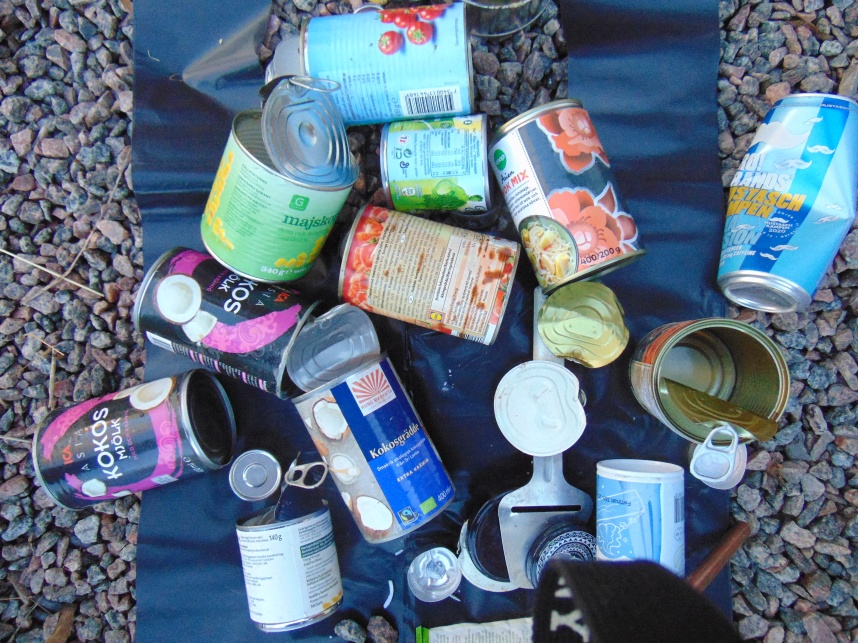metal: (500, 456, 592, 587), (666, 382, 779, 486), (264, 77, 360, 184), (493, 361, 587, 453), (540, 278, 630, 366), (288, 301, 379, 387), (455, 515, 515, 592), (267, 445, 327, 518), (687, 521, 752, 586), (530, 524, 598, 583), (403, 541, 465, 605), (468, 489, 508, 586), (227, 448, 280, 499)
metal_can: (485, 96, 649, 298), (292, 353, 455, 547), (717, 93, 858, 314), (133, 246, 324, 406), (31, 367, 238, 513), (200, 107, 360, 287), (337, 203, 521, 344), (299, 2, 477, 121), (629, 315, 787, 445), (235, 497, 348, 633), (378, 117, 496, 215), (594, 454, 687, 578), (468, 1, 550, 39)
